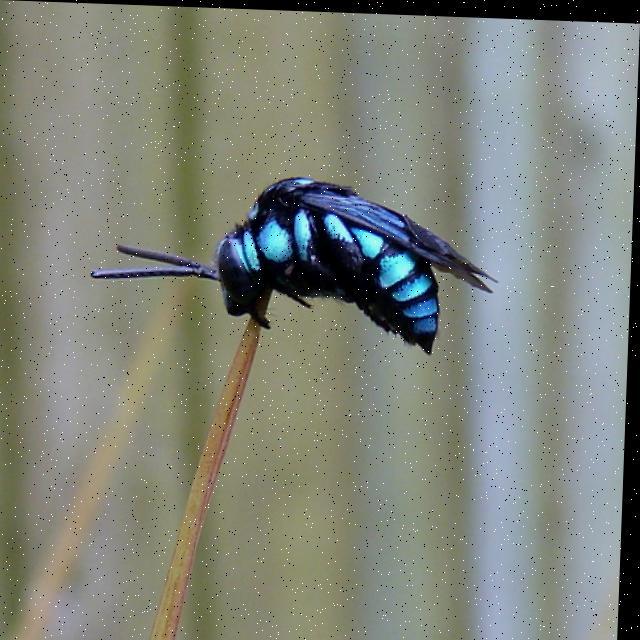Thyreus: (84, 164, 507, 376)
